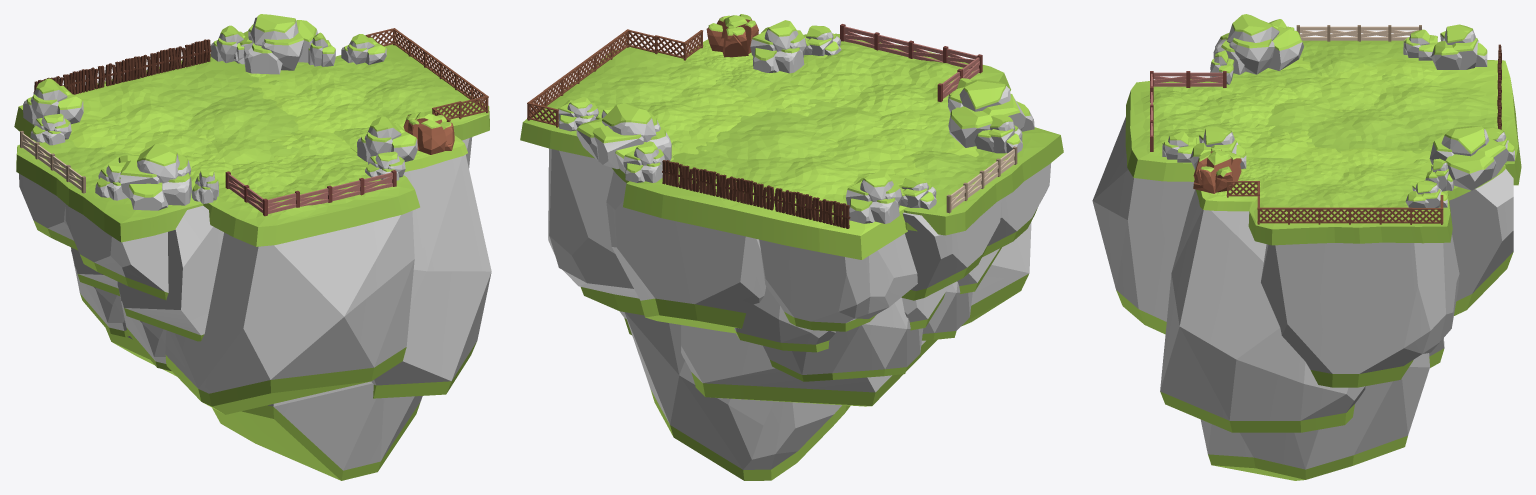
Rendered from GameField.glb.
The picture shows the model from 3 angles, left to right: view 1: azimuth 30°, elevation 25°; view 2: azimuth 150°, elevation 25°; view 3: azimuth 270°, elevation 25°; orthographic projection. The views are drawn at different scales.
Visible parts, largest first — view 1: PP_Rock_Moss_Grown_11 (23), PP_Meadow_08 (5), PP_Meadow_07 (8), PP_Rock_Moss_Grown_11 (25), PP_Meadow_08 (6), PP_Meadow_08 (8), PP_Rock_Moss_Grown_11 (26), PP_Rock_Moss_Grown_11 (31), PP_Rock_Moss_Grown_11 (27), PP_Rock_Moss_Grown_11 (35), PP_Rock_Moss_Grown_11 (36), PP_Rock_Pile_Forest_Moss_10 (12) (+15 smaller); view 2: PP_Rock_Moss_Grown_11 (23), PP_Rock_Moss_Grown_11 (26), PP_Meadow_08 (5), PP_Meadow_08 (6), PP_Meadow_07 (8), PP_Meadow_08 (8), PP_Rock_Moss_Grown_11 (25), PP_Rock_Moss_Grown_11 (27), PP_Rock_Moss_Grown_11 (31), PP_Rock_Moss_Grown_11 (36), PP_Rock_Moss_Grown_11 (35), PP_Meadow_07 (9) (+12 smaller); view 3: PP_Rock_Moss_Grown_11 (23), PP_Meadow_08 (5), PP_Meadow_08 (6), PP_Meadow_07 (8), PP_Meadow_08 (8), PP_Rock_Moss_Grown_11 (31), PP_Rock_Moss_Grown_11 (27), PP_Meadow_07 (9), PP_Rock_Moss_Grown_11 (35), PP_Rock_Pile_Forest_Moss_10 (12), PP_Rock_Moss_Grown_11 (36), PP_Rock_Moss_Grown_11 (29) (+13 smaller).
Part boxes in pixels (x1,y1,x2,y2): PP_Rock_Moss_Grown_11 (23): [105, 137, 491, 480]; PP_Meadow_08 (5): [14, 54, 300, 164]; PP_Meadow_07 (8): [190, 130, 419, 246]; PP_Rock_Moss_Grown_11 (25): [65, 204, 223, 371]; PP_Meadow_08 (6): [249, 44, 489, 142]; PP_Meadow_08 (8): [16, 125, 214, 242]; PP_Rock_Moss_Grown_11 (26): [19, 173, 129, 337]; PP_Rock_Moss_Grown_11 (31): [118, 144, 191, 210]; PP_Rock_Moss_Grown_11 (27): [233, 14, 317, 74]; PP_Rock_Moss_Grown_11 (35): [23, 78, 83, 124]; PP_Rock_Moss_Grown_11 (36): [357, 116, 417, 161]; PP_Rock_Pile_Forest_Moss_10 (12): [403, 112, 454, 154]; PP_Rock_Moss_Grown_11 (23): [548, 148, 1031, 480]; PP_Rock_Moss_Grown_11 (26): [733, 199, 1001, 381]; PP_Meadow_08 (5): [623, 99, 978, 259]; PP_Meadow_08 (6): [520, 47, 769, 158]; PP_Meadow_07 (8): [755, 33, 1010, 135]; PP_Meadow_08 (8): [821, 116, 1063, 235]; PP_Rock_Moss_Grown_11 (25): [922, 163, 1051, 340]; PP_Rock_Moss_Grown_11 (27): [576, 103, 671, 173]; PP_Rock_Moss_Grown_11 (31): [948, 80, 1034, 147]; PP_Rock_Moss_Grown_11 (36): [750, 20, 806, 73]; PP_Rock_Moss_Grown_11 (35): [845, 170, 901, 223]; PP_Meadow_07 (9): [681, 39, 788, 96]; PP_Rock_Moss_Grown_11 (23): [1092, 117, 1513, 480]; PP_Meadow_08 (5): [1266, 57, 1521, 185]; PP_Meadow_08 (6): [1248, 147, 1452, 245]; PP_Meadow_07 (8): [1125, 77, 1314, 181]; PP_Meadow_08 (8): [1232, 40, 1418, 111]; PP_Rock_Moss_Grown_11 (31): [1213, 14, 1303, 74]; PP_Rock_Moss_Grown_11 (27): [1429, 126, 1508, 190]; PP_Meadow_07 (9): [1196, 157, 1295, 211]; PP_Rock_Moss_Grown_11 (35): [1431, 24, 1487, 69]; PP_Rock_Pile_Forest_Moss_10 (12): [1193, 147, 1241, 193]; PP_Rock_Moss_Grown_11 (36): [1190, 126, 1246, 169]; PP_Rock_Moss_Grown_11 (29): [1405, 180, 1447, 209].
Size of the model in its own units: 150 by 126 by 141.
4 materials, 4 textured.
